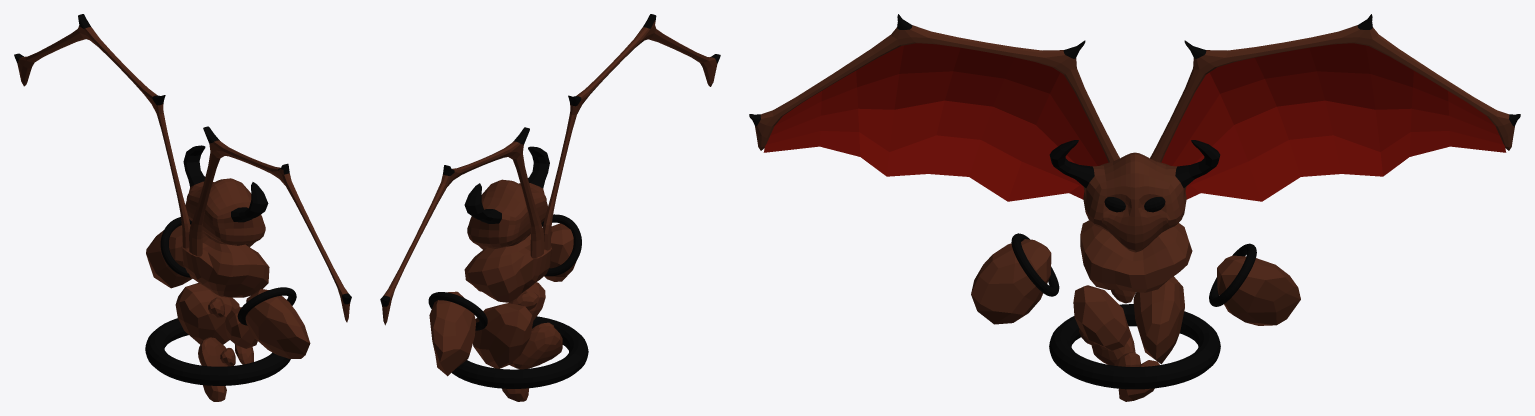
Rendered from demon_boss.fbx.
3 views of the same model, side by side, from view 1: azimuth 30°, elevation 25°; view 2: azimuth 150°, elevation 25°; view 3: azimuth 270°, elevation 25° (orthographic). The views are drawn at different scales.
Parts seen in each view (by area): view 1: Torus.002; view 2: Torus.002; view 3: Torus.002.
Boxes of the visible parts, x1=… form: Torus.002: x1=14, y1=14, x2=351, y2=401; Torus.002: x1=380, y1=14, x2=720, y2=401; Torus.002: x1=749, y1=14, x2=1520, y2=401.
Bounding box in the file's own units: 728 × 1721 × 3270.
